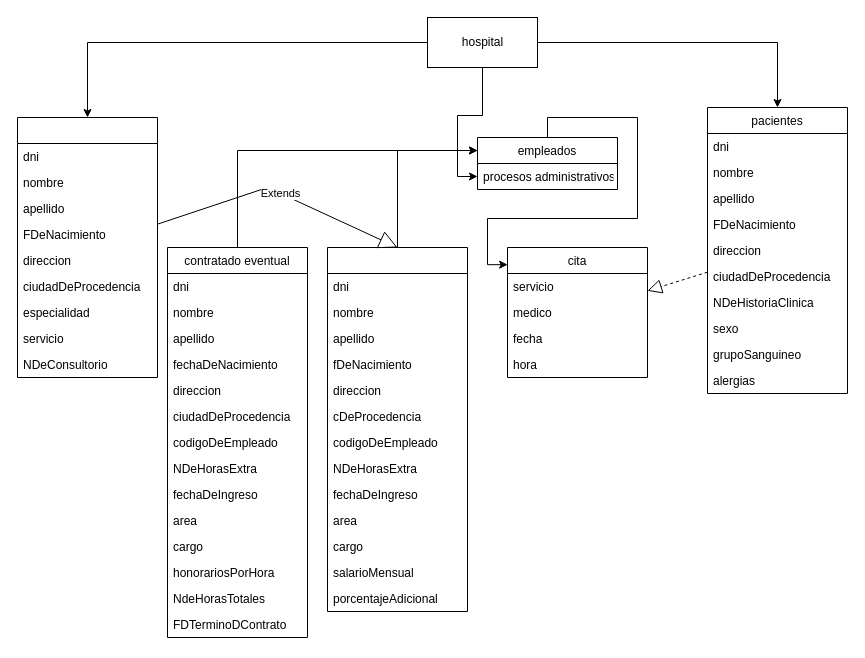
Image size: 865x658. Some labels were removed from this diagram. The box of each missing label's shape, as (x1, y1, x2, y2) in pixels:
contratado por planilla: (326, 246, 468, 612)
medicos: (16, 116, 158, 378)
